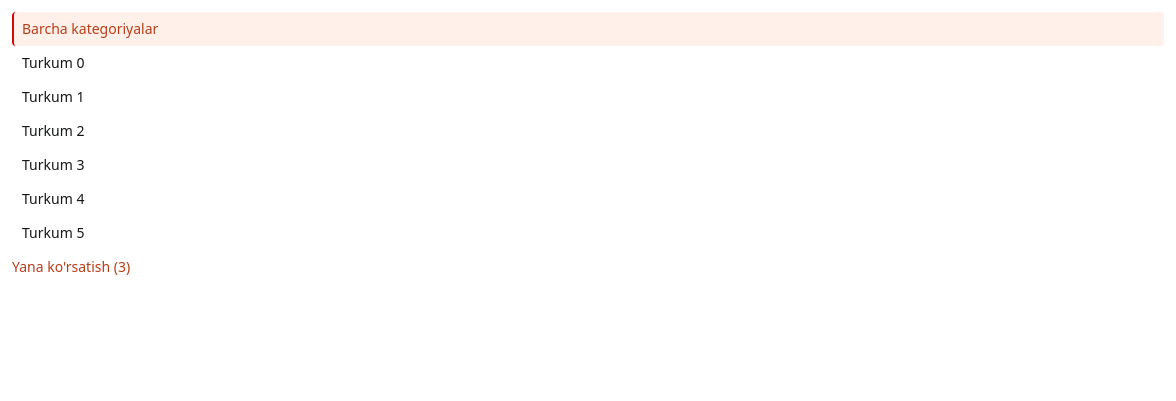
it: CategoryTreeFilter › holds a long tree back behind one toggle
Check: the button "Turkum 8" is not shown
Click the button "Yana ko'rsatish (3)": (71, 267) [12,256,130,278]
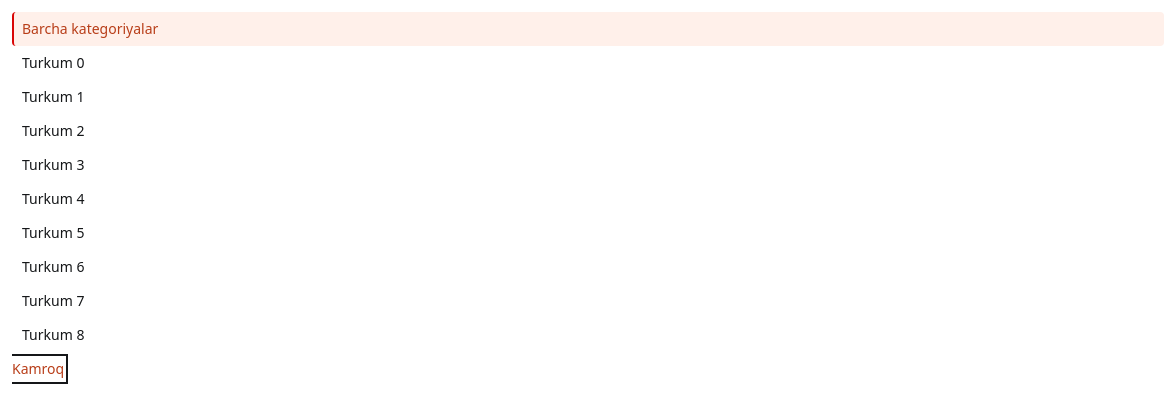
Check: the button "Turkum 8" is shown, box [14,318,1136,352]
Click the button "Kamroq": (38, 369) [12,358,64,380]
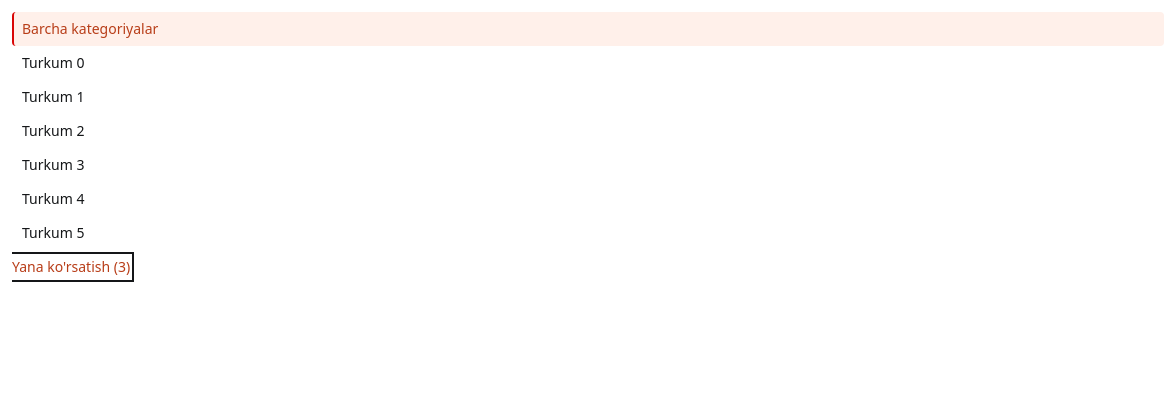
Check: the button "Turkum 8" is gone
